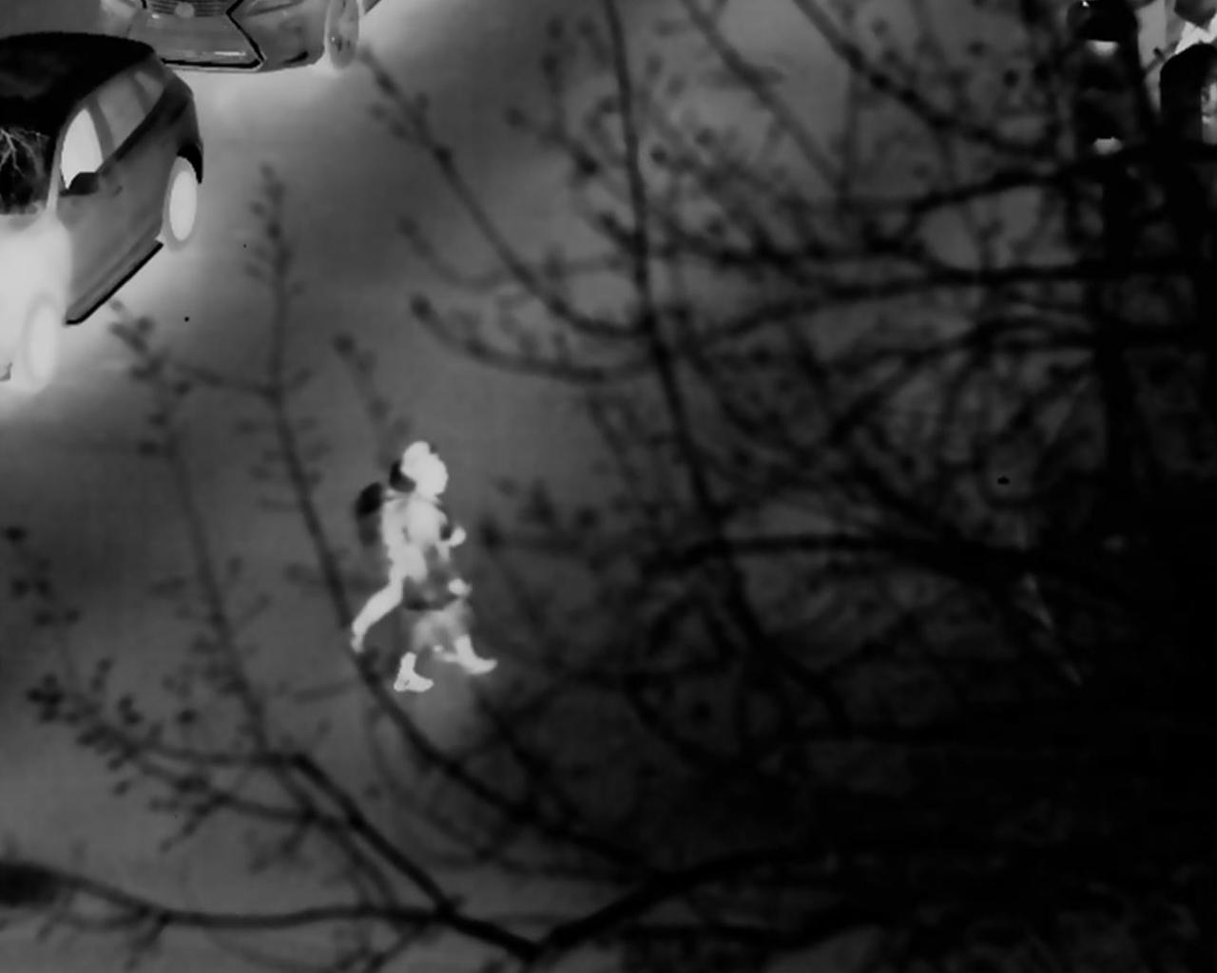person: (381, 461, 501, 695), (351, 436, 474, 657)
